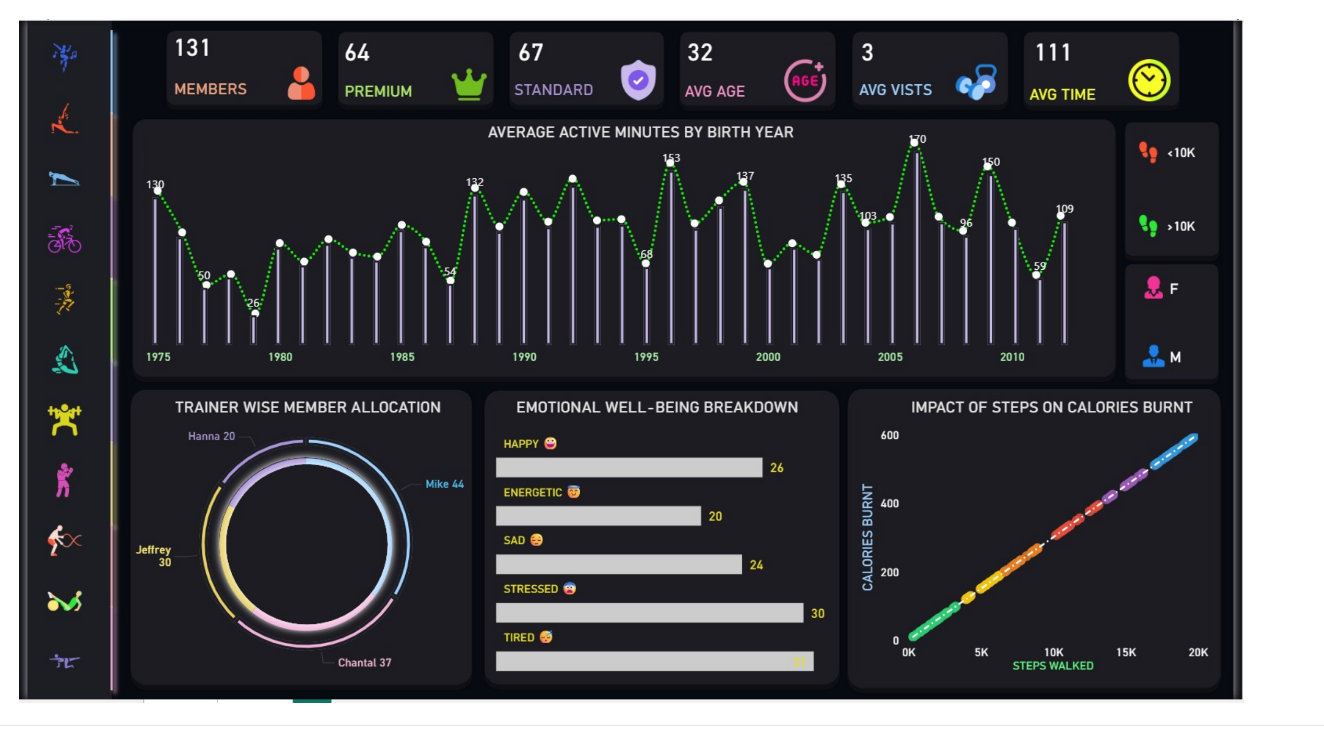

The dashboard page shown, as its layout file describes it:
{"tool":"powerbi","page":{"name":"Page 1","canvas":[1280,720],"ordinal":0},"visuals":[{"type":"lineClusteredColumnComboChart","fields":{"Category":["Gym Dataset.year"],"Y2":["Exercise.avg_act_min_line"],"Y":["Exercise.avg_act_min_bar"]},"box":[0,0,1083.3,254.2],"z":0},{"type":"donutChart","fields":{"Category":["Gym Dataset.name_personal_trainer"],"Y":["Sum(Gym Dataset.id)"]},"box":[55.1,317.4,285,276.9],"z":1000},{"type":"donutChart","fields":{"Category":["Gym Dataset.name_personal_trainer"],"Y":["Sum(Gym Dataset.id)"]},"box":[0,255.8,395.1,401.6],"z":2000},{"type":"barChart","fields":{"Y":["Sum(Gym Dataset.id)"],"Category":["Gym Dataset.mood"]},"box":[0,269.6,307.2,302.9],"z":3000},{"type":"scatterChart","fields":{"X":["Sum(Gym Dataset.steps)"],"Category":["Gym Dataset.id"],"Y":["Sum(Gym Dataset.calories_burned)"]},"box":[365.2,340.6,444.9,231.9],"z":4000}]}

Visuals, with their boxes in screenshot pixels (x1, y1, x2, y2), scaled from the page's 1280x720 canvas onto the 1324x737 screenshot:
lineClusteredColumnComboChart - Gym Dataset.year x Exercise.avg_act_min_line: 0,0,1121,260
donutChart - Gym Dataset.name_personal_trainer x Sum(Gym Dataset.id): 57,325,352,608
donutChart - Gym Dataset.name_personal_trainer x Sum(Gym Dataset.id): 0,262,409,673
barChart - Sum(Gym Dataset.id) x Gym Dataset.mood: 0,276,318,586
scatterChart - Sum(Gym Dataset.steps) x Gym Dataset.id: 378,349,838,586
